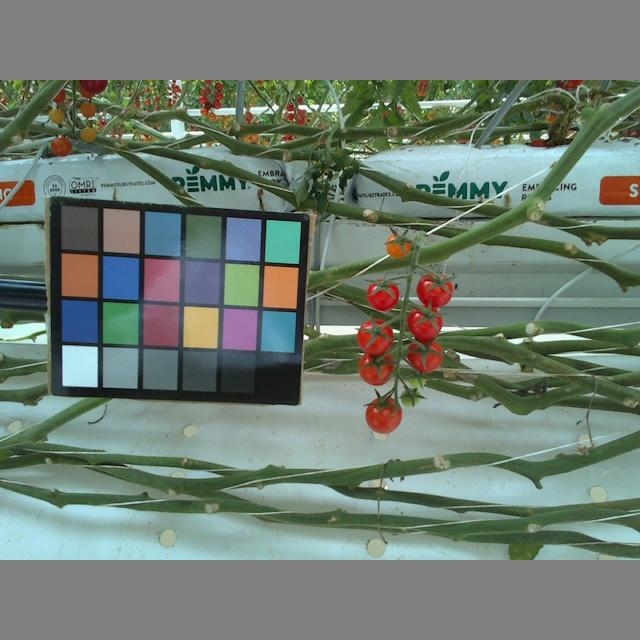green: (401, 387, 423, 408)
pink: (384, 233, 412, 260), (49, 136, 72, 157), (46, 106, 65, 126), (78, 103, 96, 118), (78, 126, 95, 141)
red: (406, 335, 445, 372), (366, 396, 404, 433), (354, 319, 394, 354), (415, 274, 452, 309), (357, 350, 394, 385), (405, 308, 444, 341), (367, 277, 401, 312)
